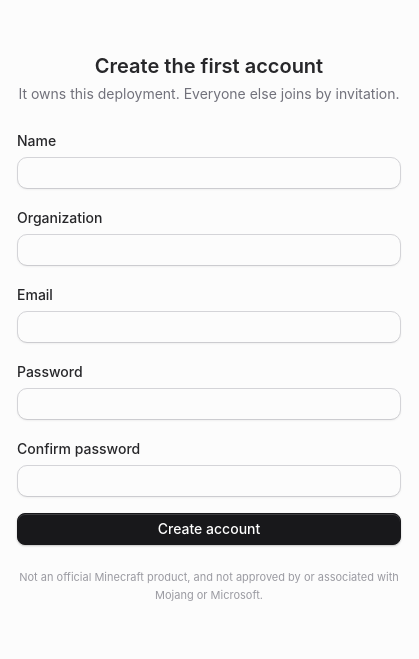
it: the register page while this deployment has no account › shows the server's refusal rather than a blank page when registration closed underneath
The width and height of the screenshot is (419, 659).
Type "Cave Johnson" into the field labelled "Name".
click(209, 173); type("Cave Johnson")  # box [18,158,400,188]
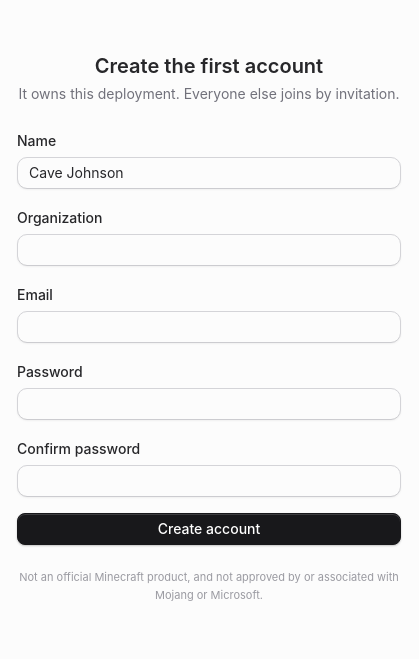
Type "Aperture Science" into the field labelled "Organization".
click(209, 250); type("Aperture Science")  # box [18,235,400,265]
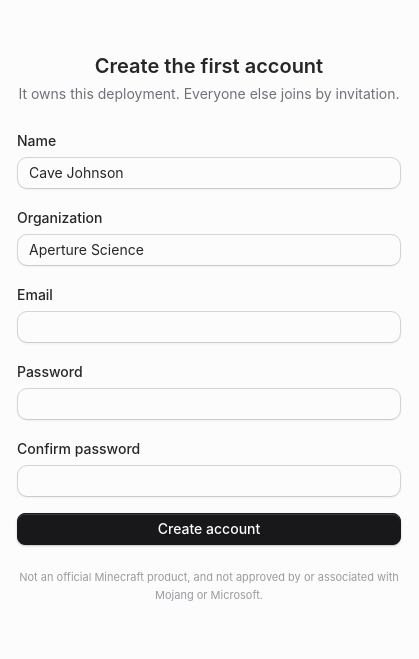
Type "cave@example.com" into the field labelled "Email".
click(209, 327); type("cave@example.com")  # box [18,312,400,342]
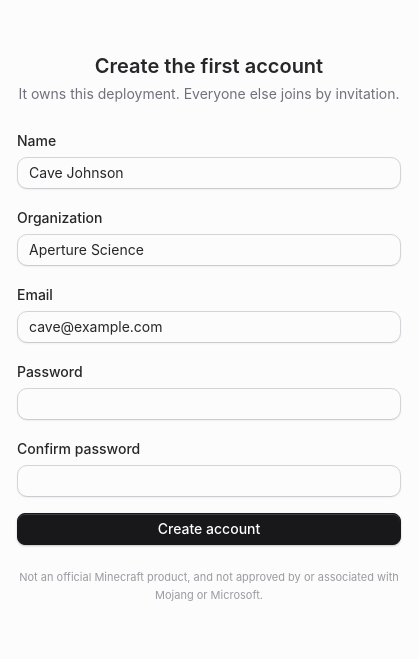
Type "correct horse battery staple" into the password field labelled "Password".
click(209, 404); type("correct horse battery staple")  # box [18,389,400,419]
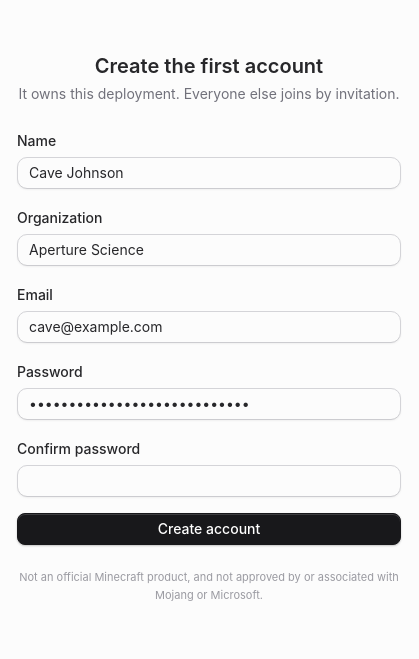
Type "correct horse battery staple" into the password field labelled "Confirm password".
click(209, 481); type("correct horse battery staple")  # box [18,466,400,496]
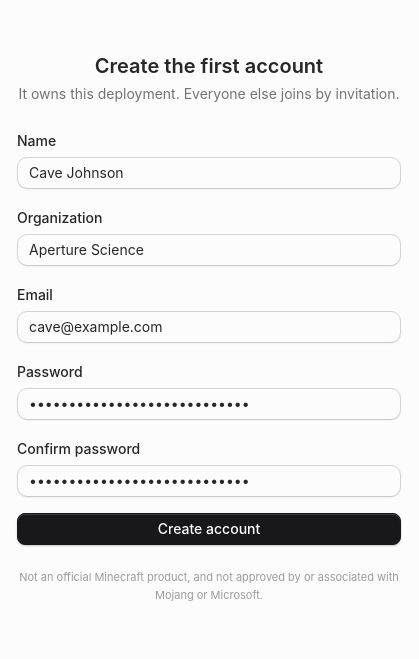
Click the button "Create account".
click(209, 529)  # box [17,513,401,545]
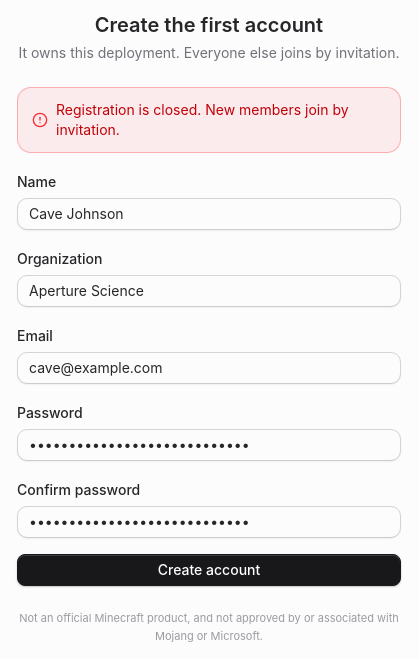
Result: the text "Registration is closed. New members join by invitation." is shown at [56,100,386,140]
